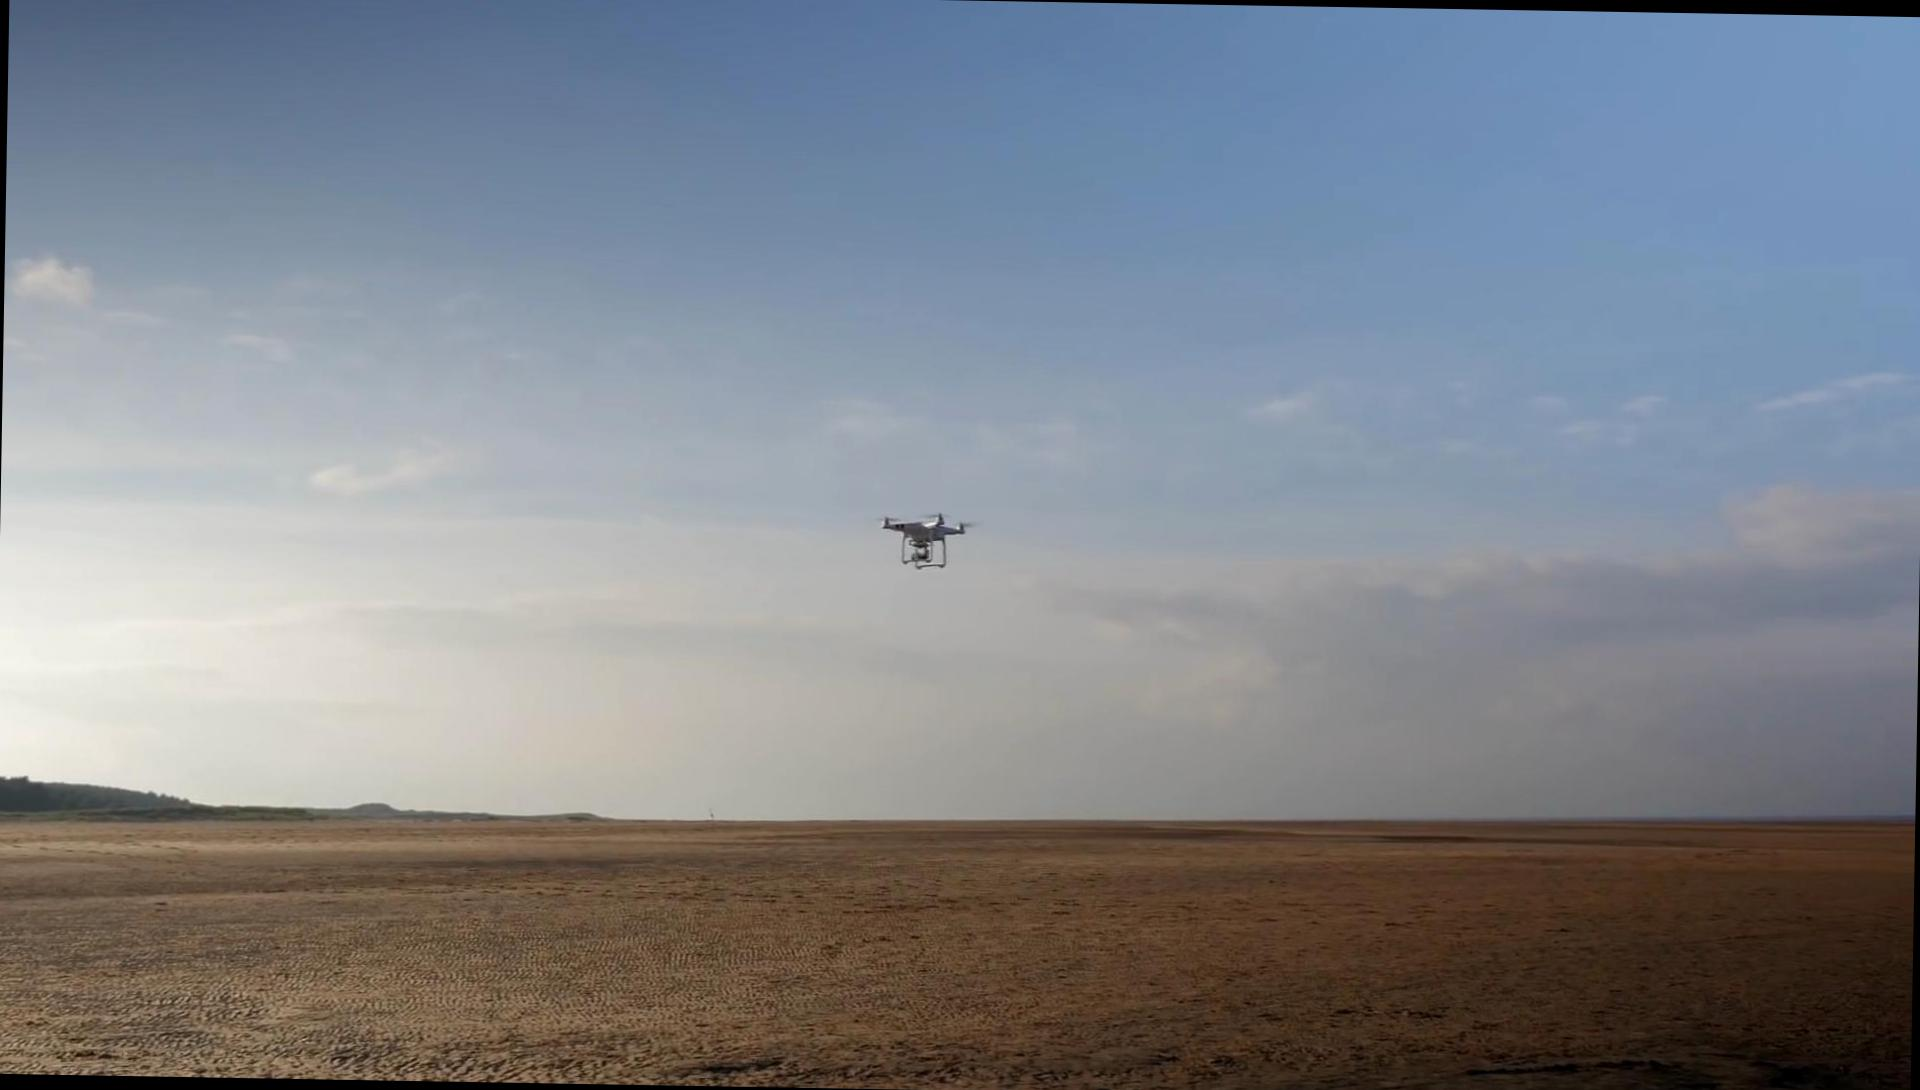drone: (873, 506, 976, 576)
